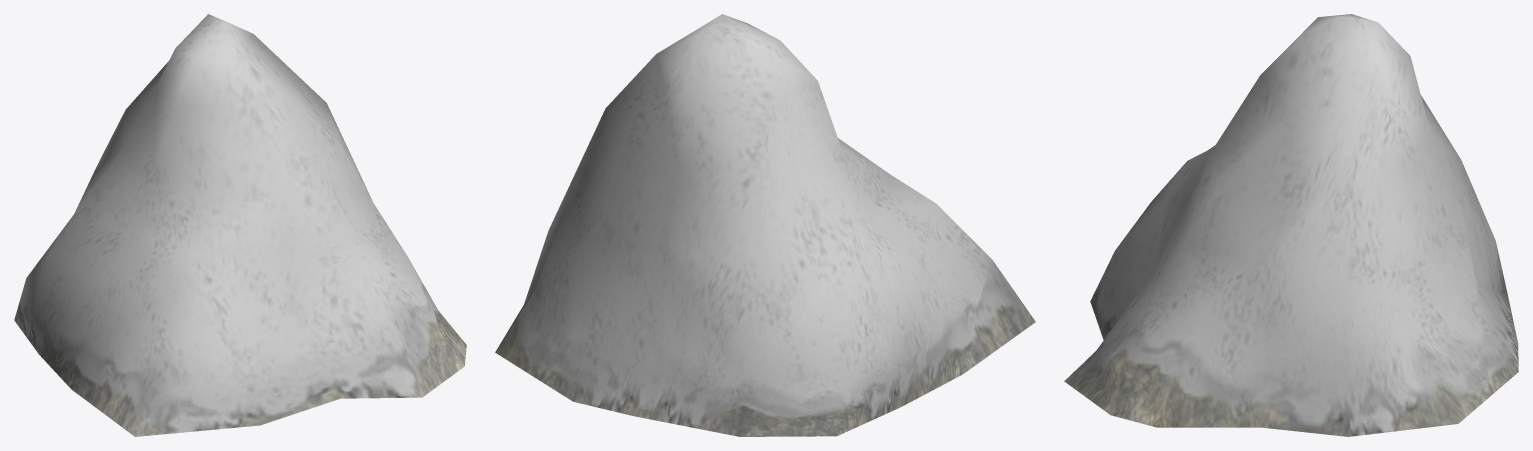
Rendered from general_obj_stone18.fbx.
3 views of the same model, side by side, from view 1: azimuth 30°, elevation 25°; view 2: azimuth 150°, elevation 25°; view 3: azimuth 270°, elevation 25° (orthographic). The views are drawn at different scales.
Visible parts, largest first — view 1: Sphere01; view 2: Sphere01; view 3: Sphere01.
Part boxes in pixels (<box>): Sphere01: <box>14,14,466,436</box>; Sphere01: <box>495,14,1035,436</box>; Sphere01: <box>1064,14,1518,436</box>.
Size of the model in its own units: 6.33 by 5.04 by 6.34.
